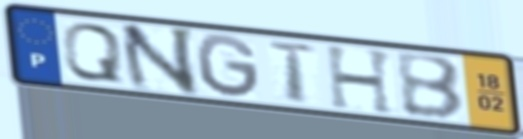B: (392, 52, 467, 122)
G: (193, 32, 263, 101)
H: (322, 43, 398, 117)
N: (116, 23, 202, 98)
Q: (60, 21, 125, 85)
T: (265, 38, 322, 106)
